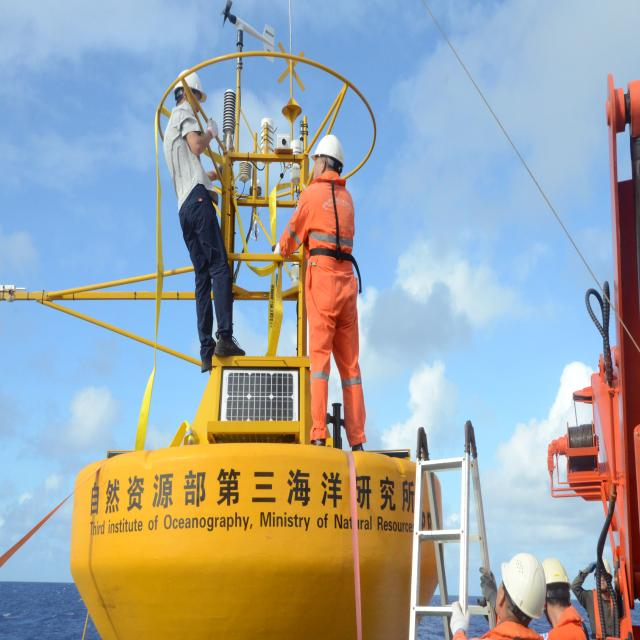buoy: (70, 18, 438, 640)
